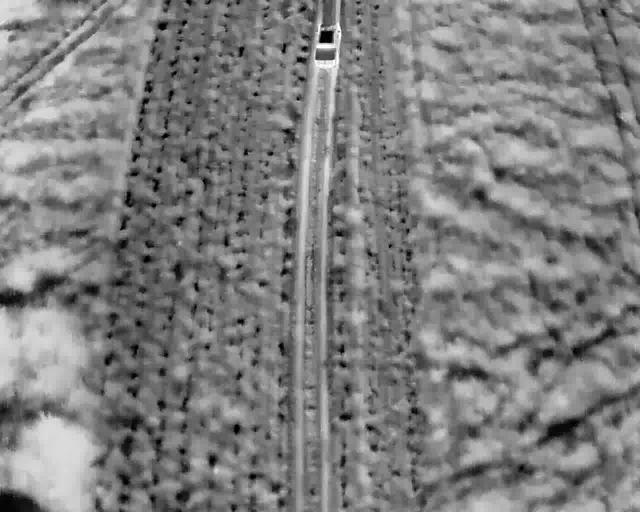car: (313, 23, 341, 66)
